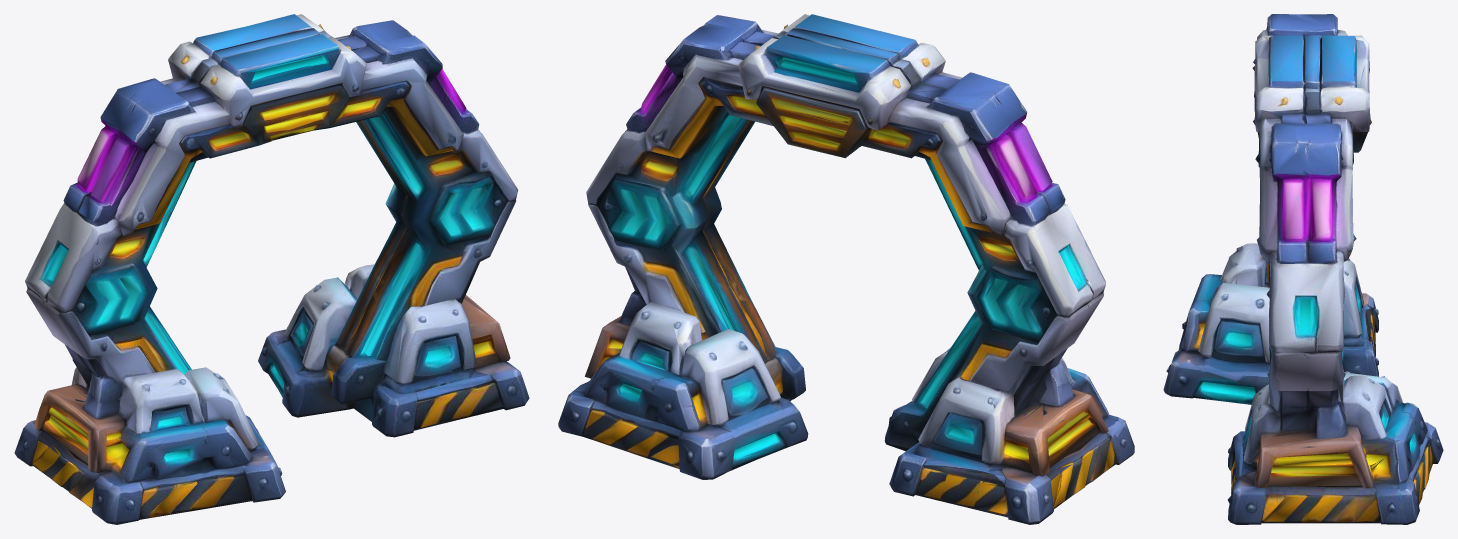
File: portico.glb
3 views of the same model, side by side, from view 1: azimuth 30°, elevation 25°; view 2: azimuth 150°, elevation 25°; view 3: azimuth 270°, elevation 25° (orthographic). The views are drawn at different scales.
Parts seen in each view (by area): view 1: portico; view 2: portico; view 3: portico.
Part boxes in pixels (x1,y1,x2,y2): portico: (14, 14, 529, 524); portico: (558, 14, 1134, 524); portico: (1163, 14, 1443, 524).
Size of the model in its own units: 1 by 0.7909 by 0.5499.
1 material, 1 textured.
